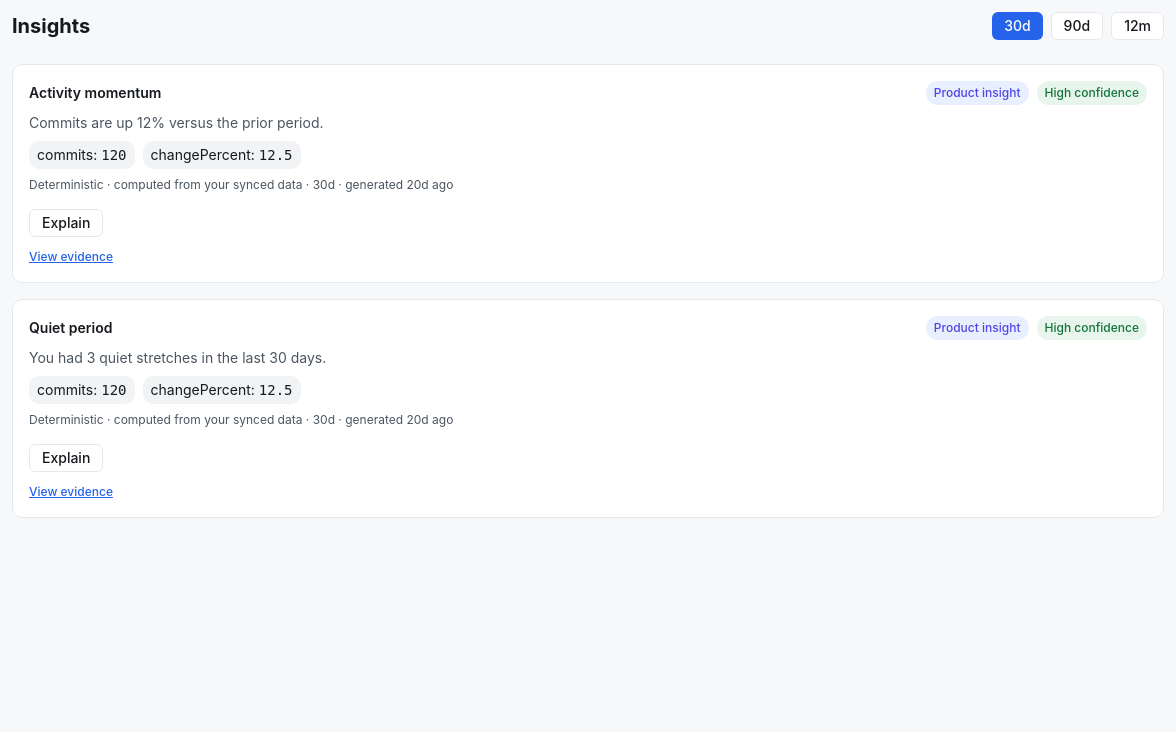
Insights Explain interaction (T6.2) › keeps explanations independent per insight card
Click the button "Explain" below "Activity momentum" at (66, 223), box [29,209,103,237]
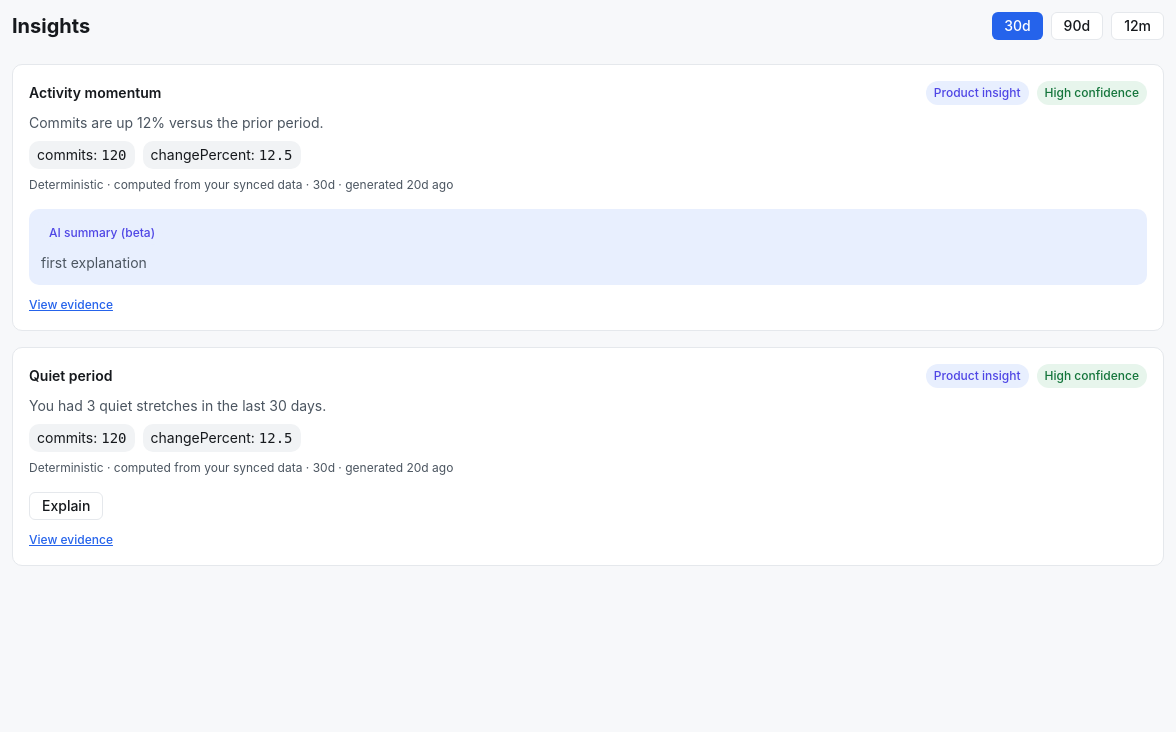
expect the text "first explanation" is shown: met, box [41,254,147,271]
expect the number of buttons "Explain" is 1: met, box [29,492,103,520]
